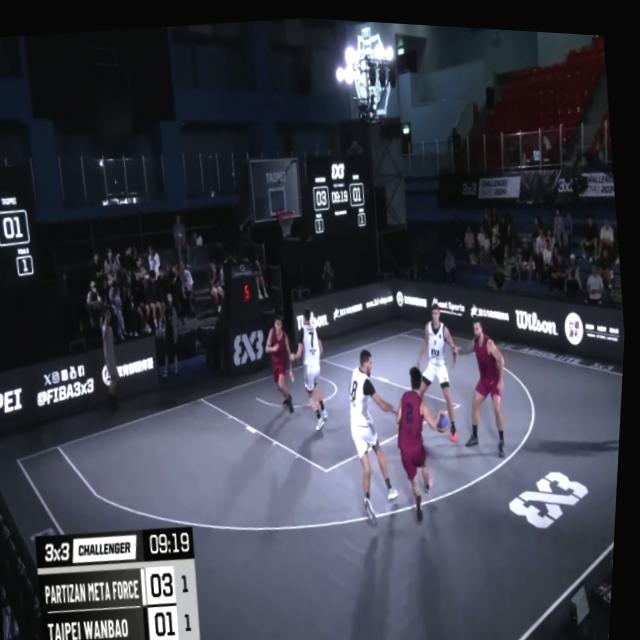ball: (435, 400, 455, 432)
hoop: (274, 199, 300, 236)
player: (346, 340, 416, 518), (390, 357, 461, 522), (397, 293, 475, 439), (452, 301, 522, 458), (290, 304, 336, 426), (262, 301, 306, 417)
